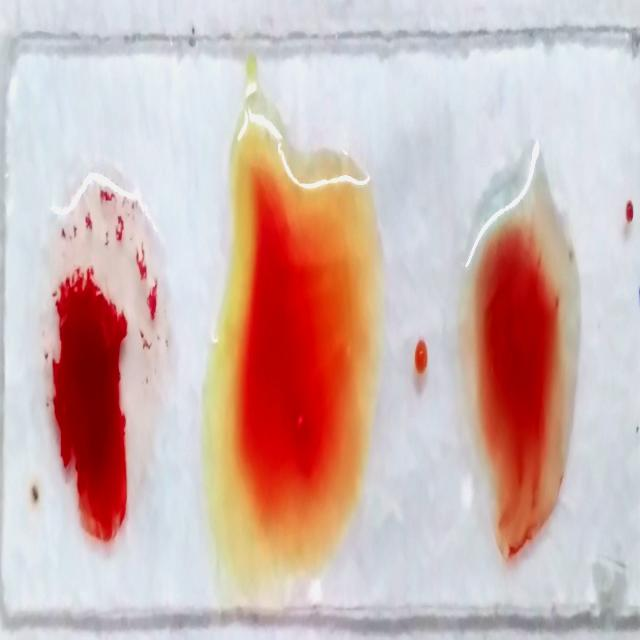D: (40, 175, 162, 552)
